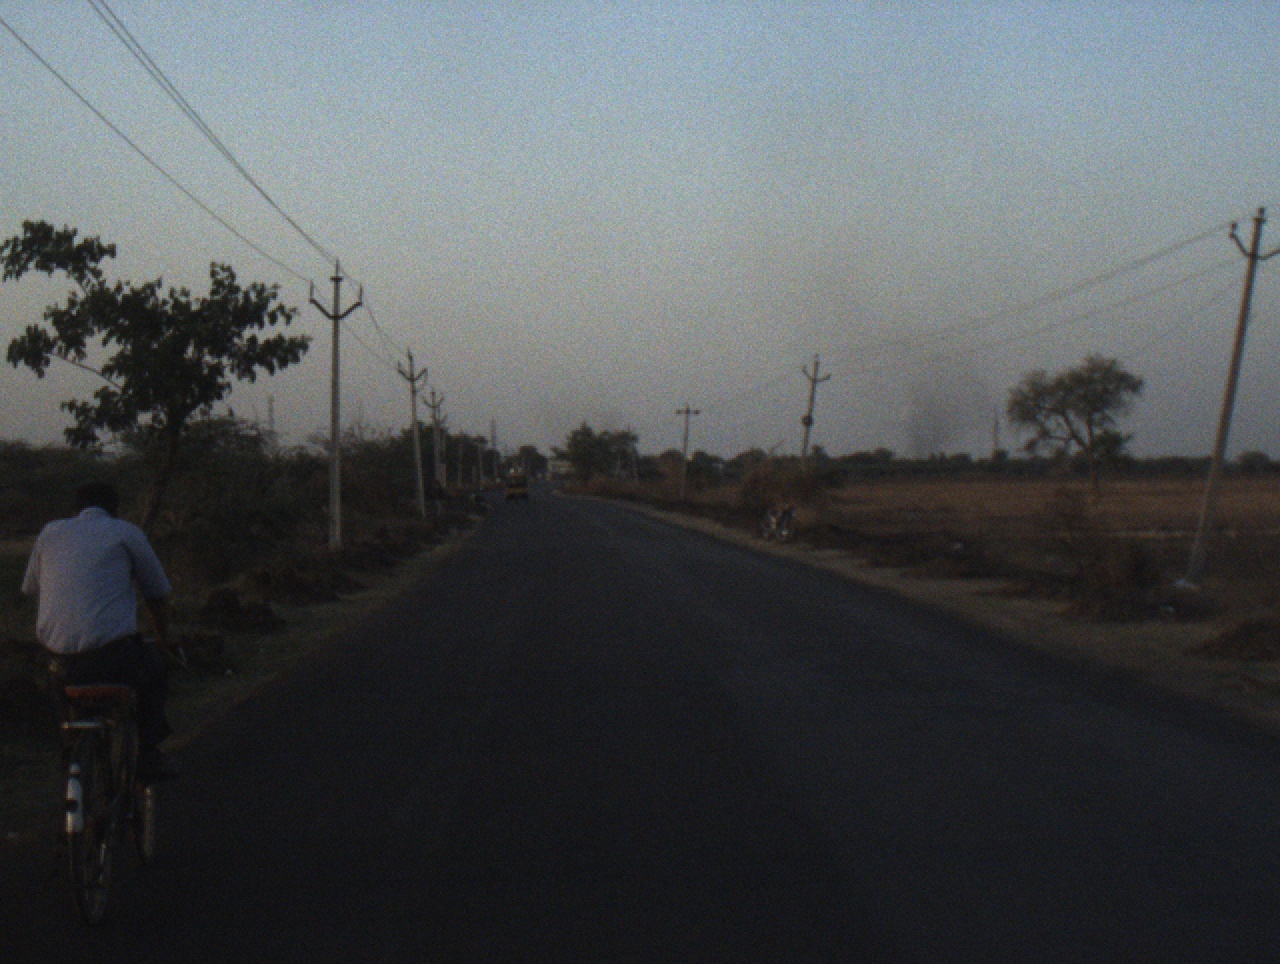autorickshaw: (503, 464, 533, 503)
bicycle: (37, 627, 194, 935)
motorcycle: (757, 502, 796, 548)
rider: (18, 471, 187, 798)
